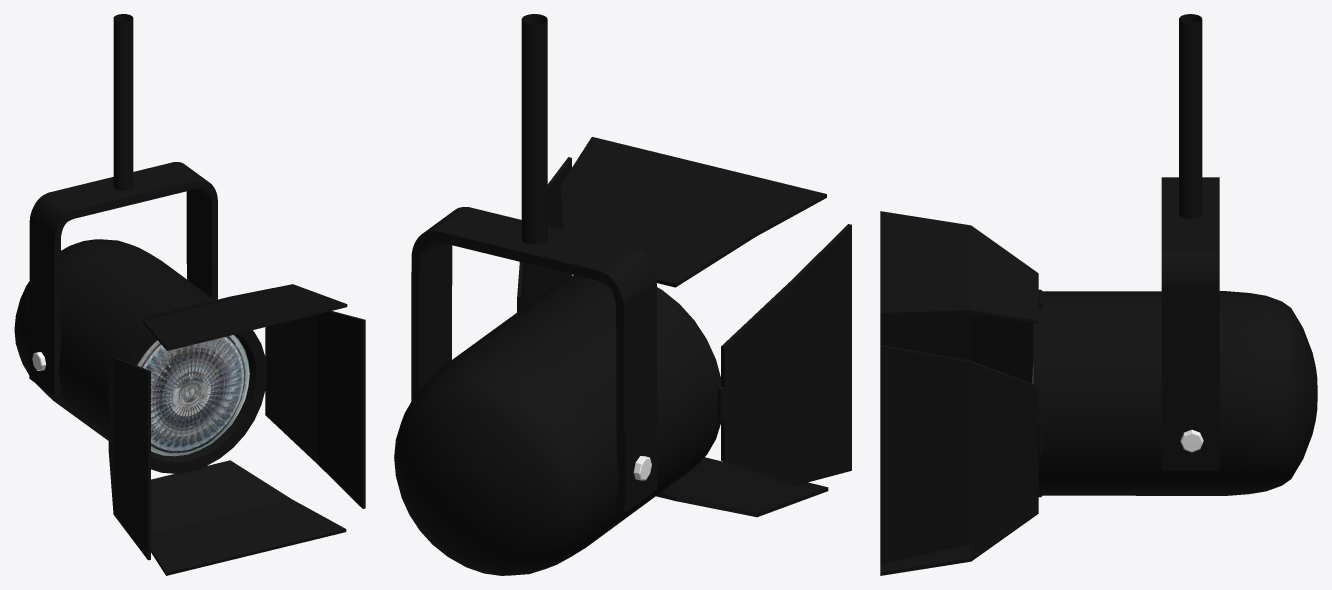
Rendered from light.obj.
The picture shows the model from 3 angles, left to right: view 1: azimuth 30°, elevation 25°; view 2: azimuth 150°, elevation 25°; view 3: azimuth 270°, elevation 25°; orthographic projection. The views are drawn at different scales.
Parts seen in each view (by area): view 1: Curve_Panel_Light_Base_Curve_Panel_Light_Metal_M_0, Curve_Panels_Reflector_1_Curve_Panel_Light_Metal_M_0, Curve_Panels_Reflector_4_Curve_Panel_Light_Metal_M_0, Curve_Panel_Light_Connector_Curve_Panel_Light_Metal_M_0, Curve_Panel_Light_Bulb_Curve_Panel_Light_Bulb_M_0, Curve_Panels_Reflector_3_Curve_Panel_Light_Metal_M_0, Curve_Panels_Reflector_2_Curve_Panel_Light_Metal_M_0, Curve_Panel_LightHolder_Curve_Panel_Light_Metal_M_0; view 2: Curve_Panel_Light_Base_Curve_Panel_Light_Metal_M_0, Curve_Panels_Reflector_3_Curve_Panel_Light_Metal_M_0, Curve_Panel_Light_Connector_Curve_Panel_Light_Metal_M_0, Curve_Panels_Reflector_2_Curve_Panel_Light_Metal_M_0, Curve_Panel_LightHolder_Curve_Panel_Light_Metal_M_0, Curve_Panels_Reflector_4_Curve_Panel_Light_Metal_M_0, Curve_Panels_Reflector_1_Curve_Panel_Light_Metal_M_0; view 3: Curve_Panel_Light_Base_Curve_Panel_Light_Metal_M_0, Curve_Panels_Reflector_1_Curve_Panel_Light_Metal_M_0, Curve_Panel_Light_Connector_Curve_Panel_Light_Metal_M_0, Curve_Panels_Reflector_2_Curve_Panel_Light_Metal_M_0, Curve_Panels_Reflector_3_Curve_Panel_Light_Metal_M_0, Curve_Panel_LightHolder_Curve_Panel_Light_Metal_M_0, Curve_Panels_Reflector_4_Curve_Panel_Light_Metal_M_0.
Boxes of the visible parts, box(x1,y1,x2,y2) form: Curve_Panel_Light_Base_Curve_Panel_Light_Metal_M_0: box(14, 239, 266, 473); Curve_Panels_Reflector_1_Curve_Panel_Light_Metal_M_0: box(265, 311, 365, 508); Curve_Panels_Reflector_4_Curve_Panel_Light_Metal_M_0: box(151, 460, 346, 575); Curve_Panel_Light_Connector_Curve_Panel_Light_Metal_M_0: box(29, 162, 217, 396); Curve_Panel_Light_Bulb_Curve_Panel_Light_Bulb_M_0: box(137, 335, 249, 456); Curve_Panels_Reflector_3_Curve_Panel_Light_Metal_M_0: box(108, 357, 150, 560); Curve_Panels_Reflector_2_Curve_Panel_Light_Metal_M_0: box(143, 284, 347, 350); Curve_Panel_LightHolder_Curve_Panel_Light_Metal_M_0: box(113, 14, 133, 190); Curve_Panel_Light_Base_Curve_Panel_Light_Metal_M_0: box(394, 275, 720, 575); Curve_Panels_Reflector_3_Curve_Panel_Light_Metal_M_0: box(721, 224, 851, 485); Curve_Panel_Light_Connector_Curve_Panel_Light_Metal_M_0: box(411, 207, 657, 513); Curve_Panels_Reflector_2_Curve_Panel_Light_Metal_M_0: box(560, 137, 826, 287); Curve_Panel_LightHolder_Curve_Panel_Light_Metal_M_0: box(521, 14, 547, 244); Curve_Panels_Reflector_4_Curve_Panel_Light_Metal_M_0: box(656, 457, 828, 517); Curve_Panels_Reflector_1_Curve_Panel_Light_Metal_M_0: box(517, 157, 571, 312); Curve_Panel_Light_Base_Curve_Panel_Light_Metal_M_0: box(1033, 291, 1317, 495); Curve_Panels_Reflector_1_Curve_Panel_Light_Metal_M_0: box(880, 345, 1038, 564); Curve_Panel_Light_Connector_Curve_Panel_Light_Metal_M_0: box(1161, 177, 1219, 470); Curve_Panels_Reflector_2_Curve_Panel_Light_Metal_M_0: box(880, 211, 1038, 323); Curve_Panels_Reflector_3_Curve_Panel_Light_Metal_M_0: box(880, 313, 1033, 383); Curve_Panel_LightHolder_Curve_Panel_Light_Metal_M_0: box(1179, 14, 1202, 218); Curve_Panels_Reflector_4_Curve_Panel_Light_Metal_M_0: box(880, 494, 1038, 575).
Bounding box in the file's own units: 0.6674 × 1.28 × 1.
